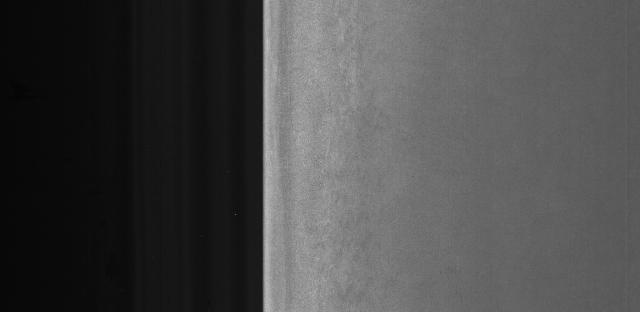silk_spot: (315, 46, 391, 252)
